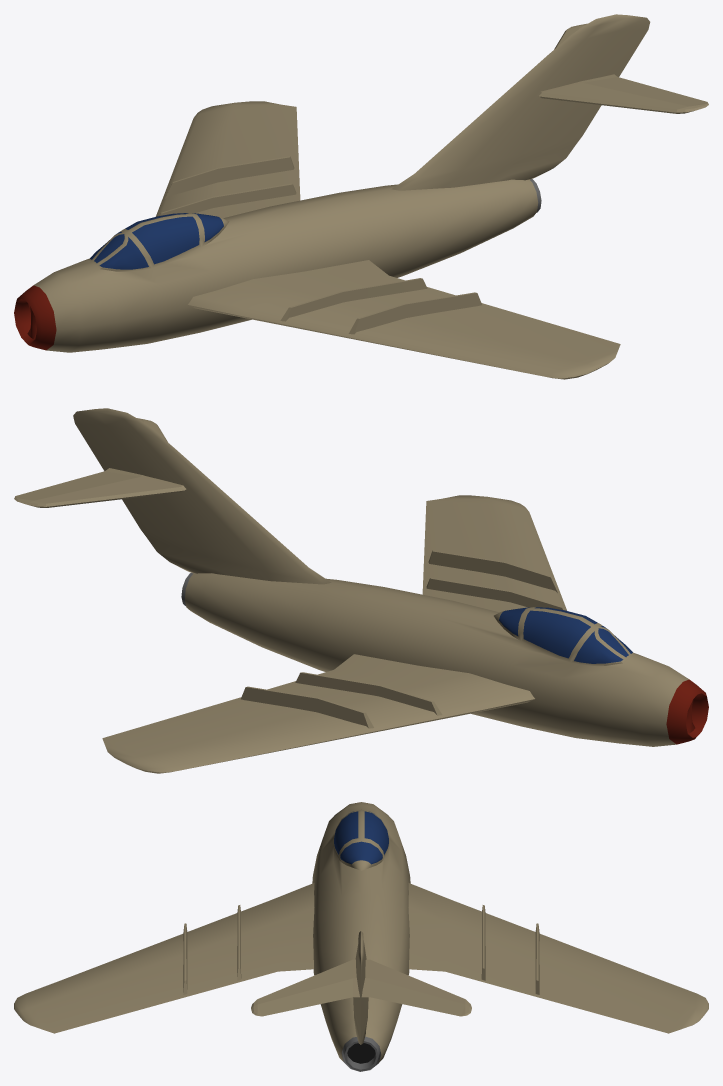
Rendered from MIG15.glb.
3 views of the same model, one above another, from view 1: azimuth 30°, elevation 25°; view 2: azimuth 150°, elevation 25°; view 3: azimuth 270°, elevation 25° (orthographic). The views are drawn at different scales.
Parts seen in each view (by area): view 1: mig15; view 2: mig15; view 3: mig15.
Boxes of the visible parts, x1,y1,x2,y2 form: mig15: (14,14,708,379); mig15: (14,408,708,773); mig15: (14,802,708,1071).
Size of the model in its own units: 10.81 by 3.46 by 10.9.
